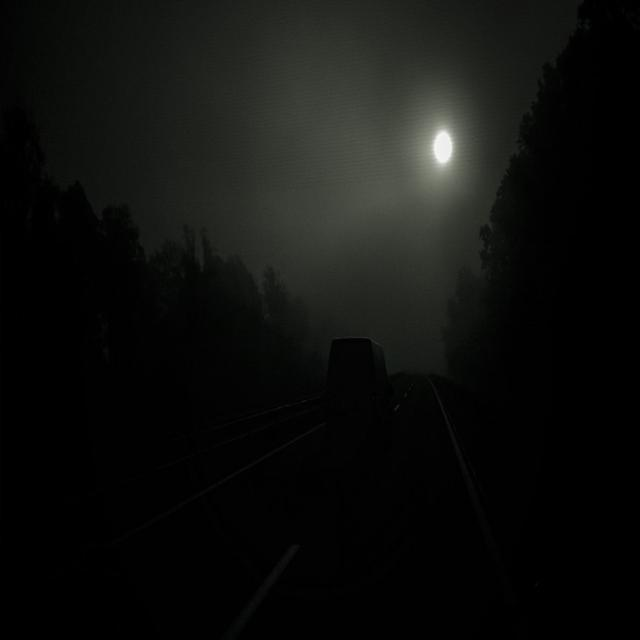Car: (319, 335, 394, 437)
